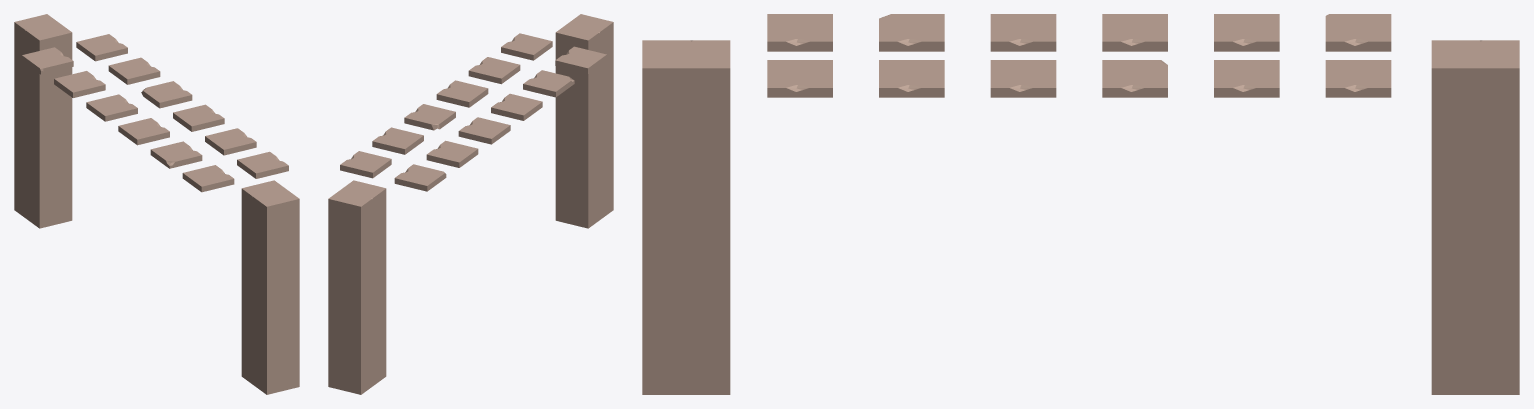
The model's file is Nivel14.fbx.
3 views of the same model, side by side, from view 1: azimuth 30°, elevation 25°; view 2: azimuth 150°, elevation 25°; view 3: azimuth 270°, elevation 25° (orthographic). The views are drawn at different scales.
Parts seen in each view (by area): view 1: Plataforma-M.033, Plataforma-M.034, Cubo.039, Cubo.037, Cubo.047, Cubo.045, Cubo.048, Cubo.040, Cubo.042, Cubo.043, Cubo.038, Cubo.041 (+2 smaller); view 2: Plataforma-M.034, Plataforma-M.033, Cubo.041, Cubo.045, Cubo.042, Cubo.044, Cubo.048, Cubo.037, Cubo.043, Cubo.038, Cubo.047, Cubo.040 (+2 smaller); view 3: Plataforma-M.033, Plataforma-M.034, Cubo.040, Cubo.045, Cubo.048, Cubo.043, Cubo.037, Cubo.038, Cubo.041, Cubo.042, Cubo.044, Cubo.047 (+2 smaller).
Part boxes in pixels (bbox=[...]): Plataforma-M.033: bbox=[241, 180, 299, 394]; Plataforma-M.034: bbox=[14, 14, 72, 228]; Cubo.039: bbox=[150, 141, 202, 168]; Cubo.037: bbox=[182, 165, 234, 192]; Cubo.047: bbox=[108, 57, 160, 84]; Cubo.045: bbox=[173, 104, 224, 131]; Cubo.048: bbox=[76, 34, 127, 61]; Cubo.040: bbox=[118, 118, 169, 145]; Cubo.042: bbox=[54, 71, 105, 97]; Cubo.043: bbox=[22, 47, 73, 74]; Cubo.038: bbox=[237, 151, 288, 178]; Cubo.041: bbox=[86, 94, 137, 121]; Plataforma-M.034: bbox=[328, 180, 386, 394]; Plataforma-M.033: bbox=[555, 14, 613, 228]; Cubo.041: bbox=[458, 117, 510, 144]; Cubo.045: bbox=[436, 80, 488, 107]; Cubo.042: bbox=[426, 140, 478, 167]; Cubo.044: bbox=[468, 57, 520, 84]; Cubo.048: bbox=[340, 151, 391, 178]; Cubo.037: bbox=[555, 46, 606, 73]; Cubo.043: bbox=[394, 164, 446, 191]; Cubo.038: bbox=[501, 33, 552, 60]; Cubo.047: bbox=[372, 127, 423, 154]; Cubo.040: bbox=[491, 93, 542, 120]; Plataforma-M.033: bbox=[642, 40, 730, 394]; Plataforma-M.034: bbox=[1431, 40, 1519, 394]; Cubo.040: bbox=[990, 14, 1056, 51]; Cubo.045: bbox=[990, 60, 1056, 97]; Cubo.048: bbox=[1325, 60, 1391, 97]; Cubo.043: bbox=[1325, 14, 1391, 51]; Cubo.037: bbox=[767, 14, 832, 51]; Cubo.038: bbox=[767, 60, 832, 97]; Cubo.041: bbox=[1102, 14, 1167, 51]; Cubo.042: bbox=[1214, 14, 1279, 51]; Cubo.044: bbox=[879, 60, 944, 97]; Cubo.047: bbox=[1214, 60, 1279, 97].
Size of the model in its own units: 3225 by 6685 by 16182.
